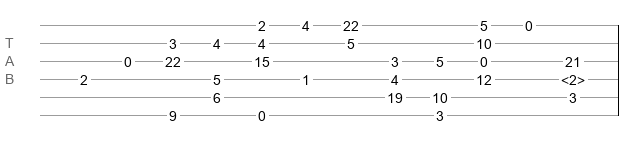0: (124, 54, 132, 64), (258, 108, 266, 118), (480, 54, 488, 64), (525, 18, 533, 28)
1: (302, 72, 310, 82)
10: (432, 90, 448, 100), (476, 36, 492, 46)
12: (476, 72, 492, 82)
15: (254, 54, 270, 64)
19: (387, 90, 403, 100)
2: (80, 72, 88, 82), (258, 18, 266, 28)
21: (565, 54, 581, 64)
22: (165, 54, 181, 64), (343, 18, 359, 28)
3: (169, 36, 177, 46), (391, 54, 399, 64), (436, 108, 444, 118), (569, 90, 577, 100)
4: (213, 36, 221, 46), (258, 36, 266, 46), (302, 18, 310, 28), (391, 72, 399, 82)
5: (213, 72, 221, 82), (347, 36, 355, 46), (436, 54, 444, 64), (480, 18, 488, 28)
6: (213, 90, 221, 100)
9: (169, 108, 177, 118)
harmonic: (561, 72, 585, 82)
